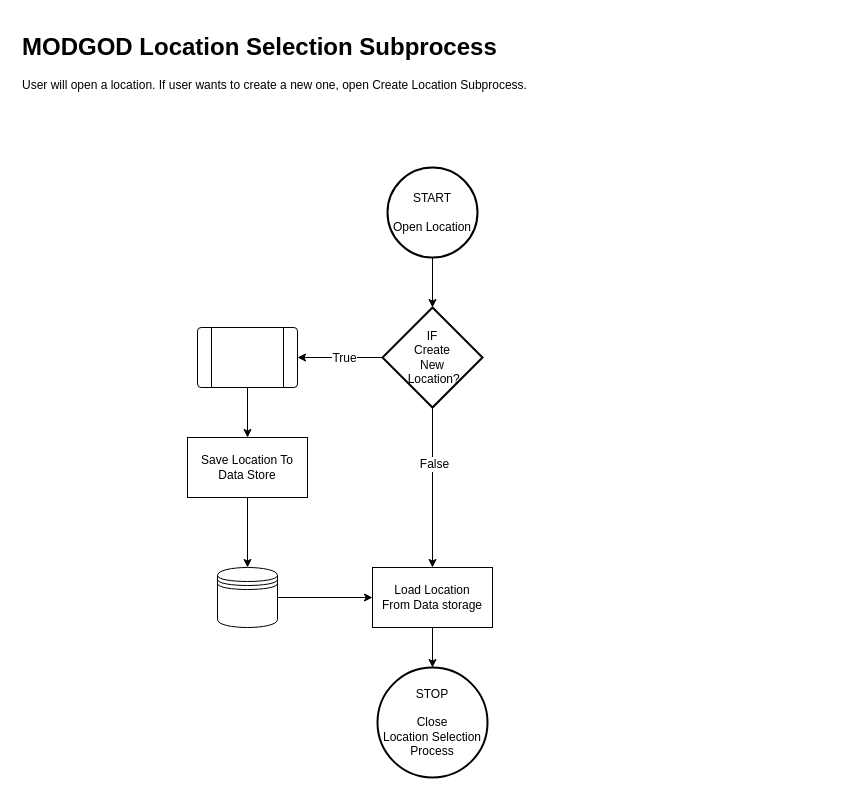
This 864x795 diagram has some shape labels left out. The centre of each missing label's shape, as x and y in pixels:
"Create Location Subprocess" goes at (247,357).
"Data Storage" goes at (247,597).
